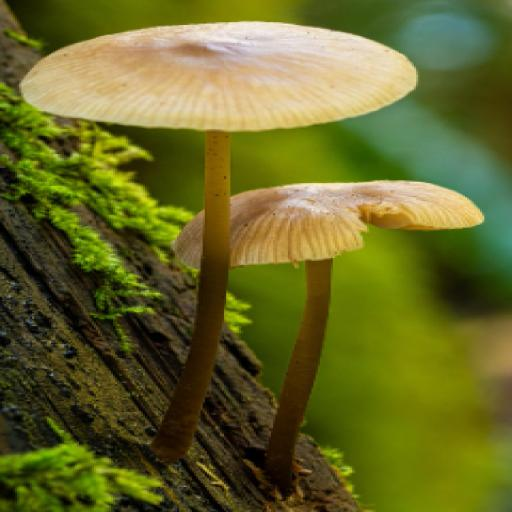Death Cap: (19, 0, 512, 512)
